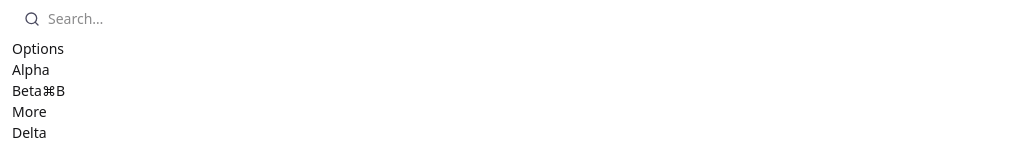
Test: Command › shows CommandEmpty when no results match
In the dropdown with placeholder "Search…": (149, 18) x1=48 y1=8 x2=250 y2=29, type "zzzzz"
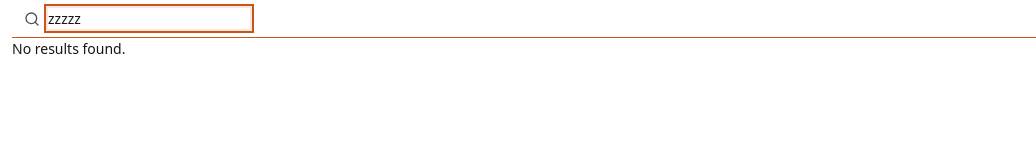
Now the text "No results found." is shown, box x1=12 y1=39 x2=126 y2=58
